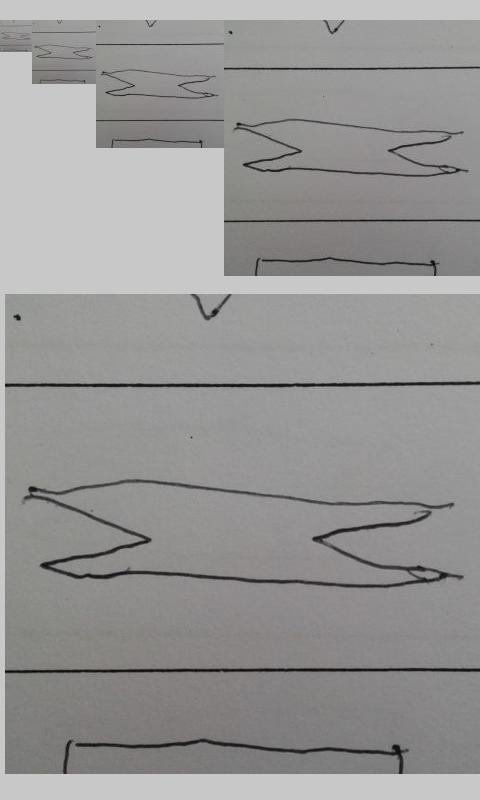edit_text: (27, 477, 406, 591), (235, 116, 441, 177), (102, 69, 202, 100), (35, 43, 84, 60), (1, 31, 25, 40)
